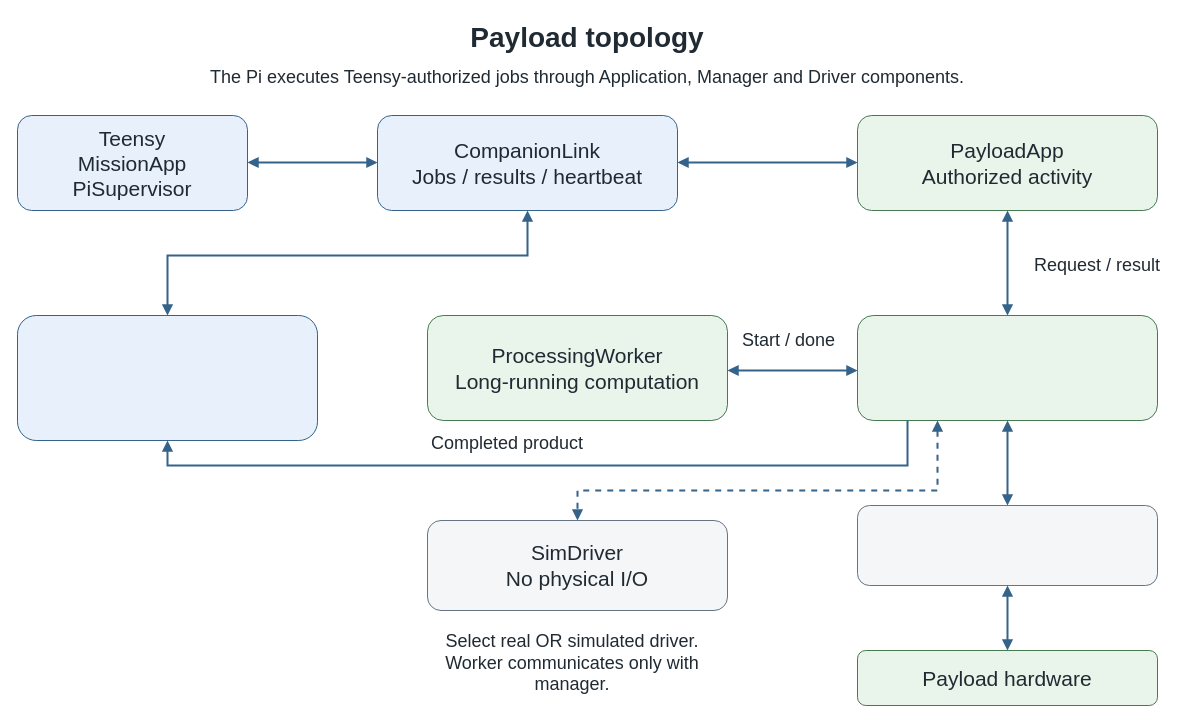
The diagram is 1195 pixels wide and 723 high, and some of its shapes have lost their labels. Each missing label, with the centre of its shape:
"Linux driver USB / UART / SPI / I2C" goes at pixel 1007 545.
"PayloadManager Device protocol + lifecycle" goes at pixel 1007 367.
"ProductStore / Transfer Products + metadata Retain until ground receipt" goes at pixel 167 377.
